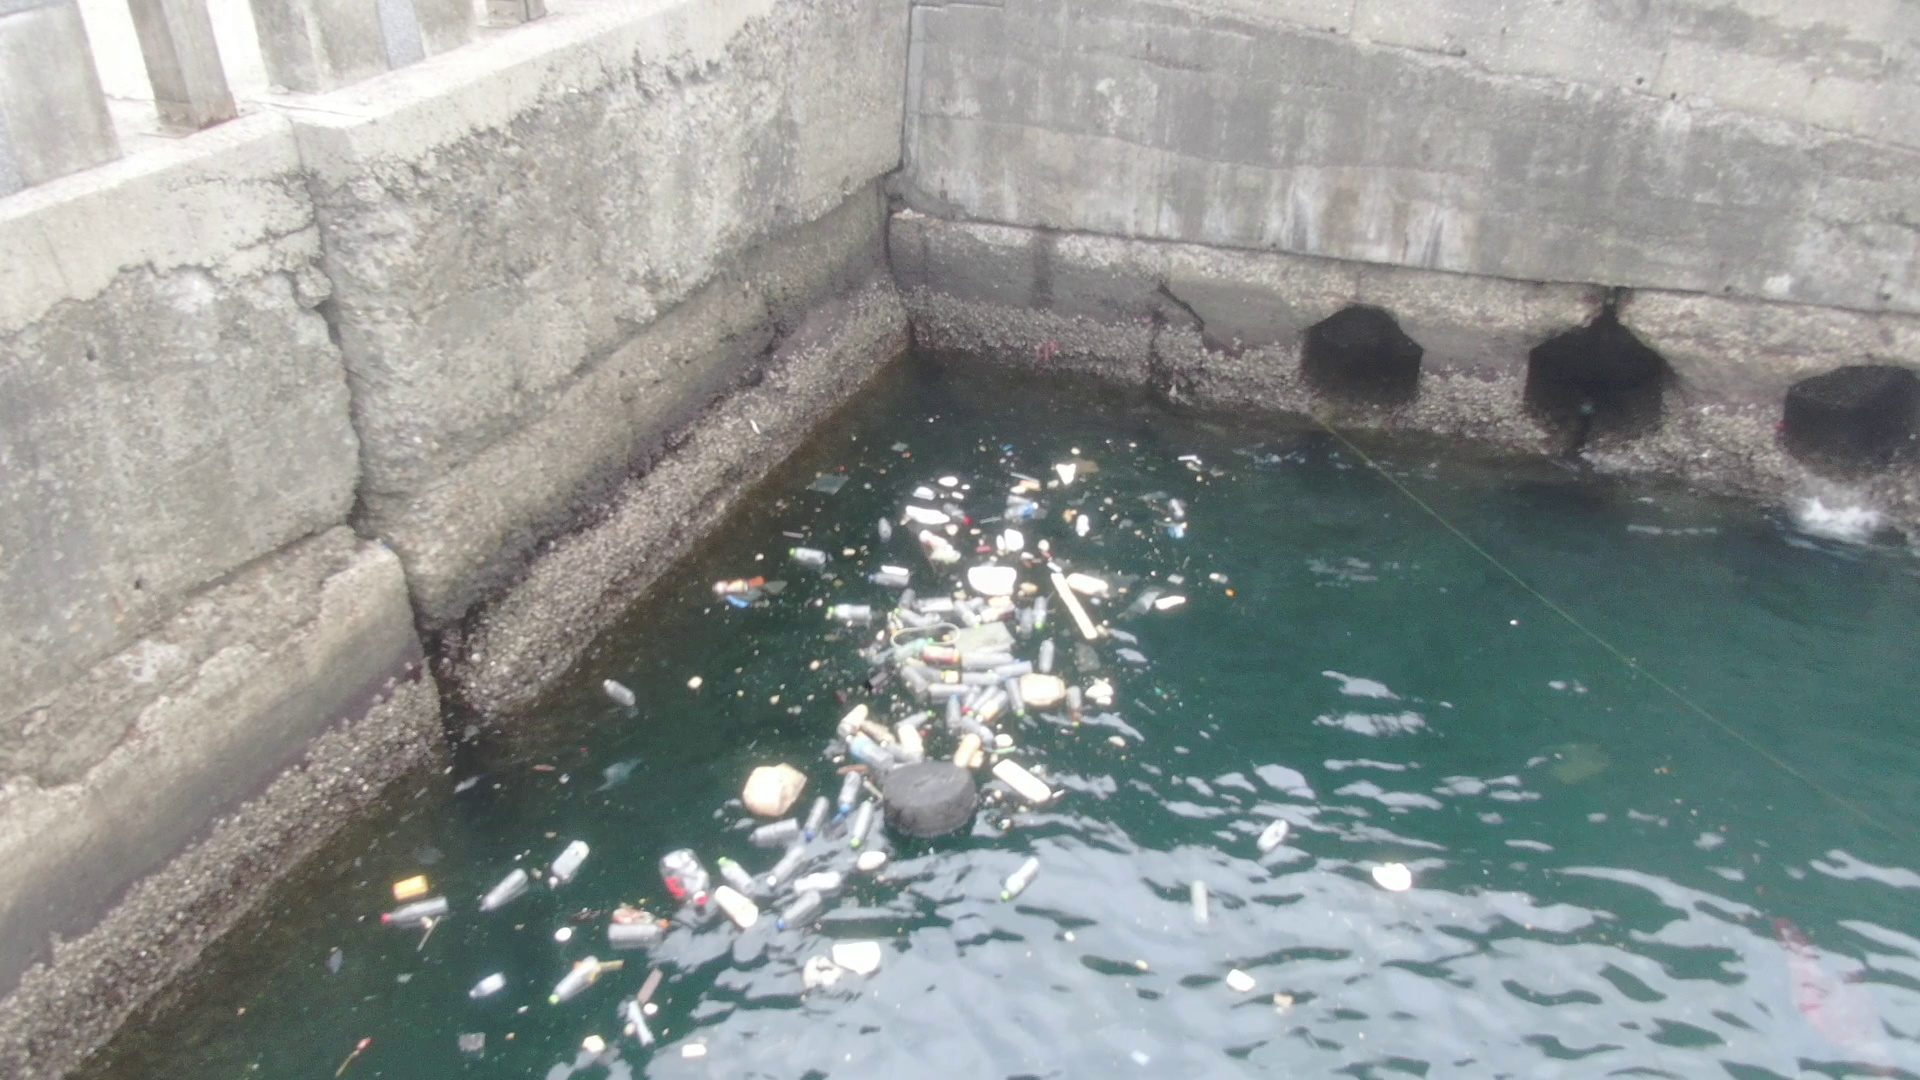bottle: (543, 951, 607, 1011), (477, 861, 534, 922), (996, 849, 1052, 909), (553, 831, 603, 891), (377, 894, 454, 931), (773, 895, 836, 938), (603, 674, 646, 720), (833, 767, 870, 818)
garbage: (371, 831, 909, 1068), (727, 560, 1155, 843), (787, 411, 1211, 636)
